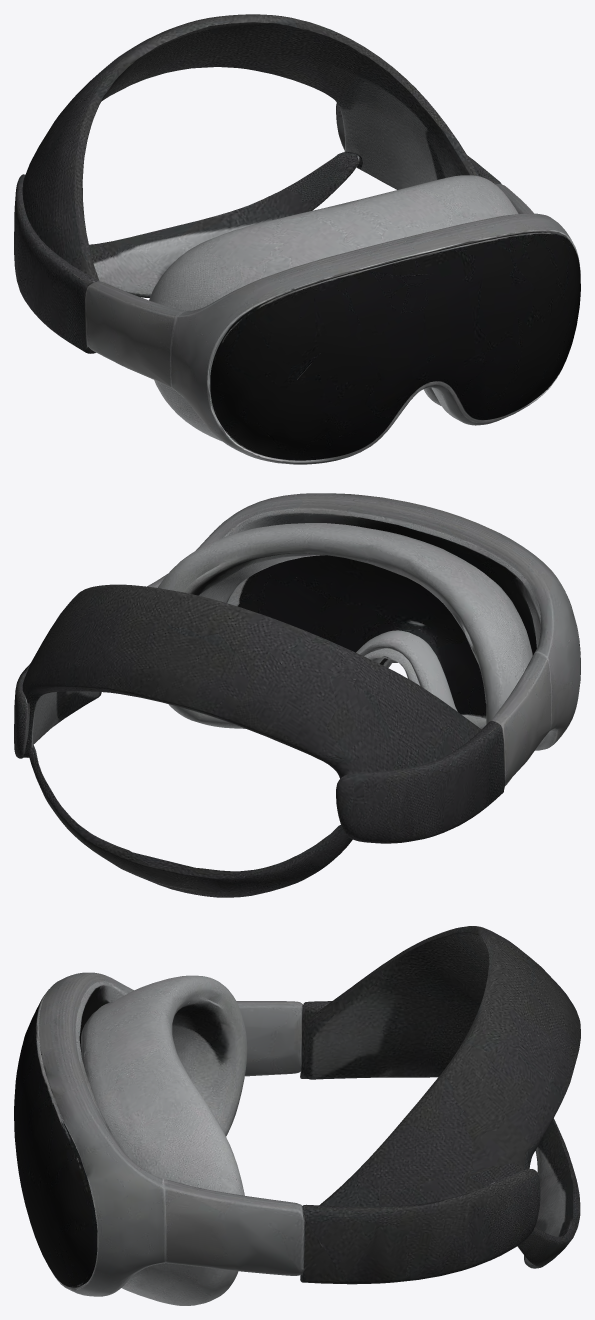
The model's file is helmet.glb.
3 renders of one model, top to bottom at view 1: azimuth 30°, elevation 25°; view 2: azimuth 150°, elevation 25°; view 3: azimuth 270°, elevation 25°, orthographic. The views are drawn at different scales.
Visible parts, largest first — view 1: Mesh_0; view 2: Mesh_0; view 3: Mesh_0.
Part boxes in pixels (box(x1,y1,x2,y2)): Mesh_0: box(14, 14, 580, 464); Mesh_0: box(14, 493, 580, 897); Mesh_0: box(14, 926, 580, 1305).
Size of the model in its own units: 1.7 by 1.09 by 1.9.
1 material, 1 textured.
